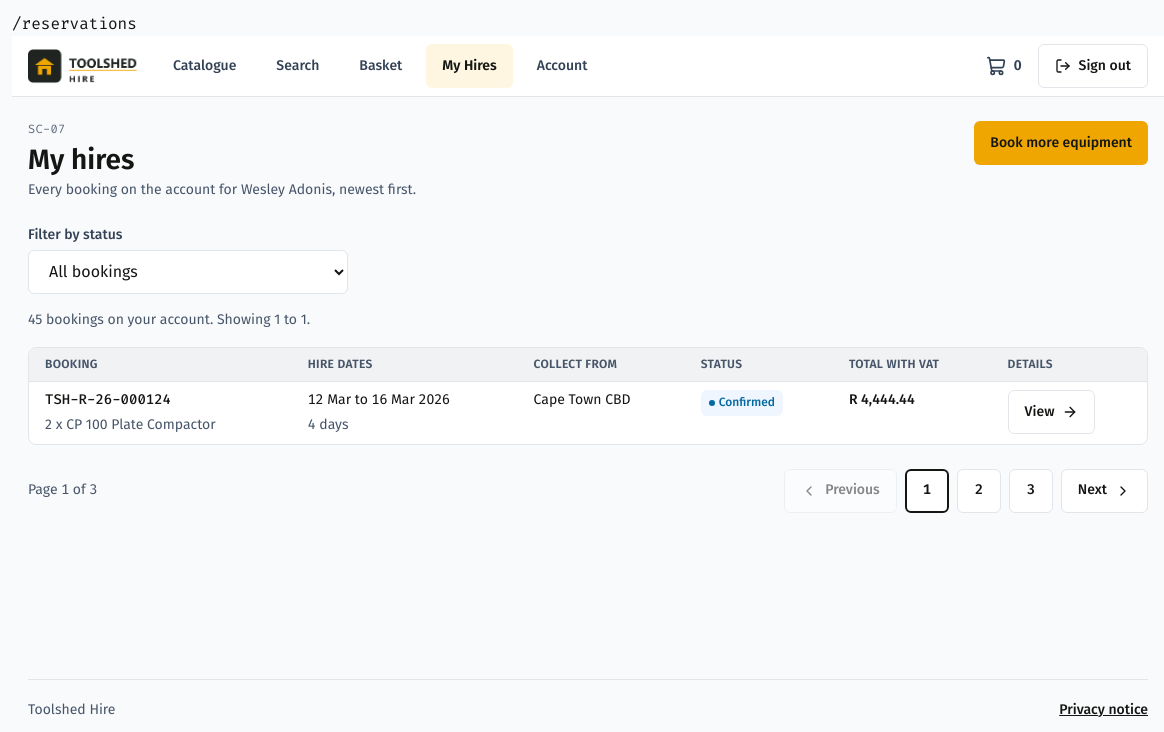
Test: paging › shows the page controls from what the server says, and asks for the next page
Check: the text "TSH-R-26-000124" is shown, box [45,390,171,409]
Check: the message "Page 1 of 3" is shown, box [28,480,97,501]
Click the button "Next" at (1104, 491), box [1061,469,1148,513]
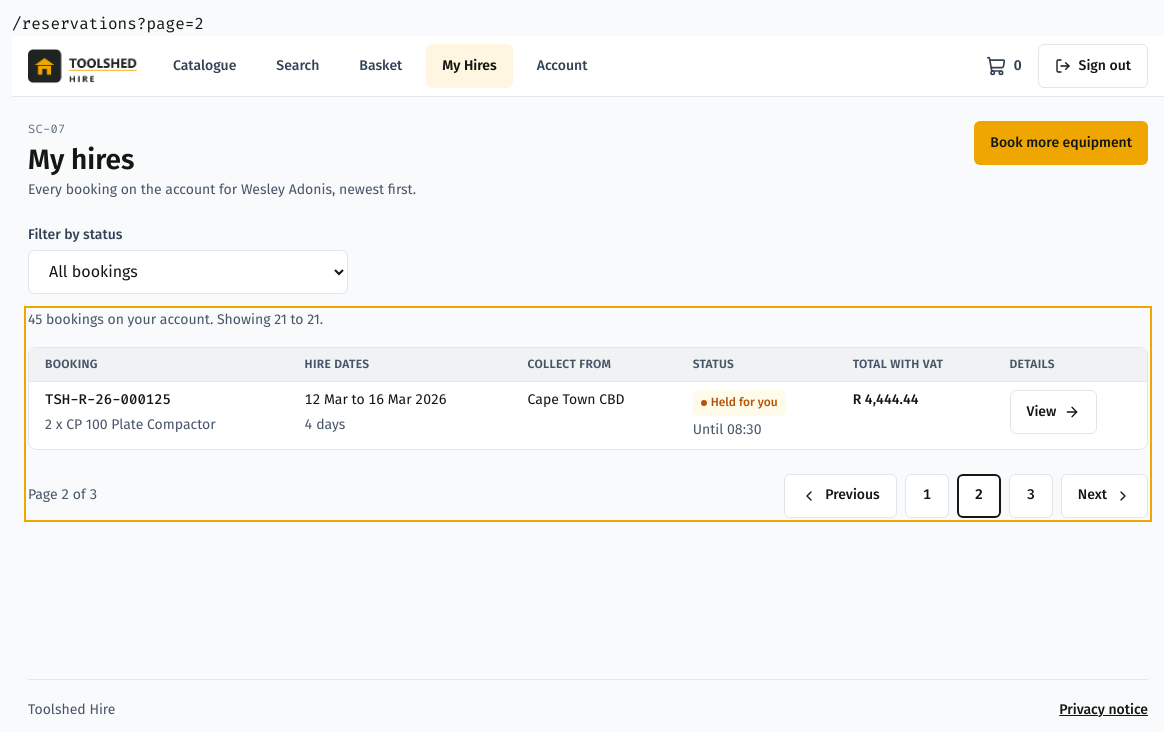
Check: the text "TSH-R-26-000125" is shown, box [45,390,171,409]
Check: the text with test id "current-address" reads "/reservations?page=2", box [12,13,204,34]
Check: the message "Page 2 of 3" is shown, box [28,485,97,506]
